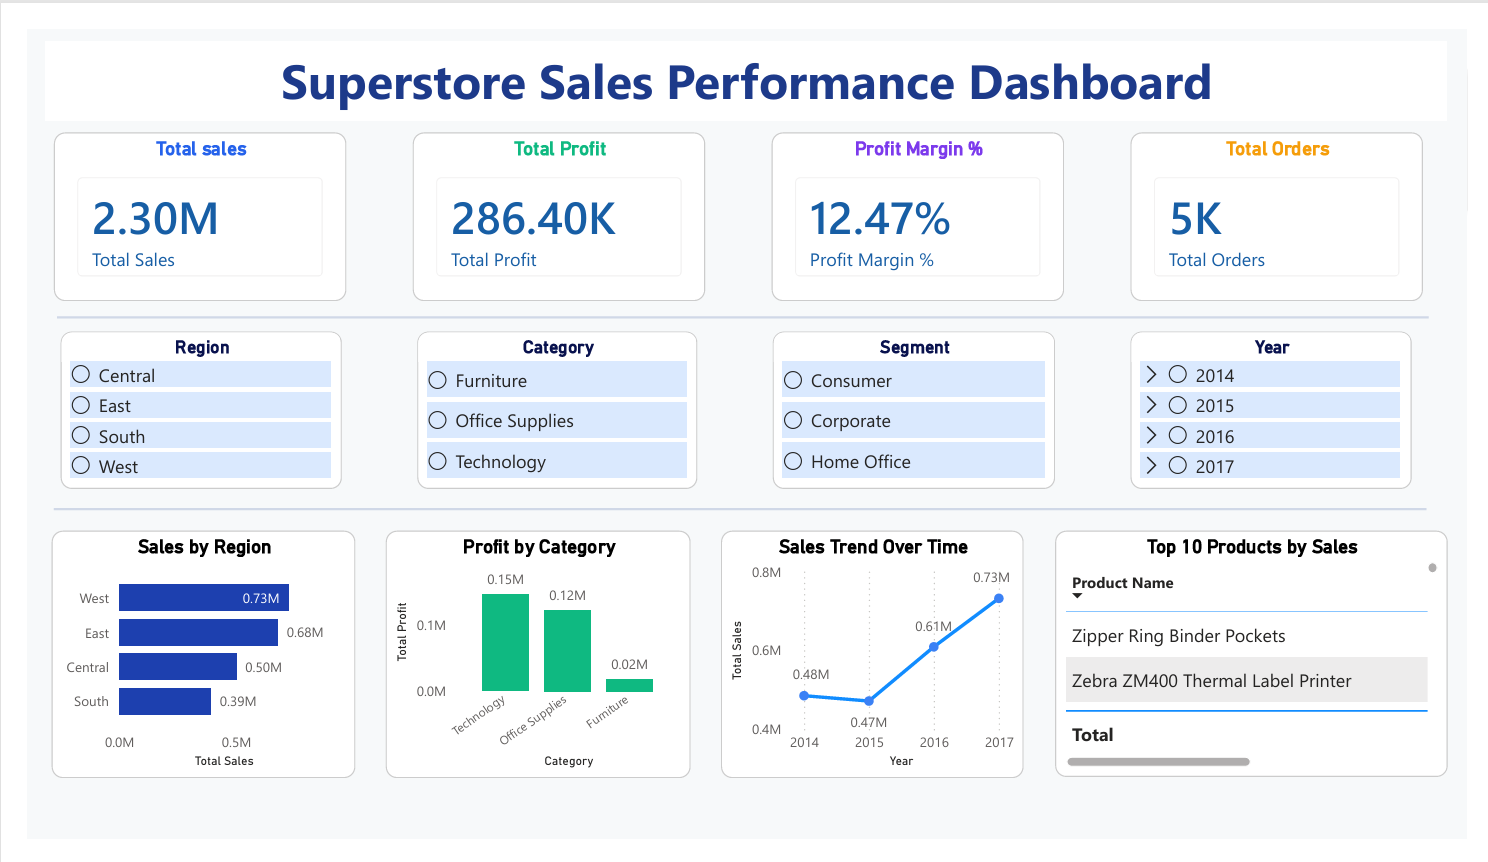

This screenshot's page, from the dashboard's own definition file:
{"tool":"powerbi","page":{"name":"Page 1","canvas":[1280,720],"ordinal":0},"visuals":[{"type":"cardVisual","title":"Total sales","fields":{"Data":["superstore_clean.Total Sales"]},"box":[23.3,90.6,260,150],"z":0},{"type":"cardVisual","title":"Total Profit","fields":{"Data":["superstore_clean.Total Profit"]},"box":[342.1,90.6,260,150],"z":1000},{"type":"cardVisual","title":"Profit Margin %","fields":{"Data":["superstore_clean.Profit Margin %"]},"box":[661,90.6,260,150],"z":2000},{"type":"cardVisual","title":"Total Orders","fields":{"Data":["superstore_clean.Total Orders"]},"box":[979.8,90.6,260,150],"z":3000},{"type":"listSlicer","fields":{"Values":["superstore_clean.Region"]},"box":[28.8,268.1,250,140],"z":4000},{"type":"listSlicer","fields":{"Values":["superstore_clean.Category"]},"box":[345.5,267.6,249.7,140],"z":5000},{"type":"listSlicer","fields":{"Values":["superstore_clean.Segment"]},"box":[662,267.6,251.1,140],"z":6000},{"type":"listSlicer","fields":{"Values":["superstore_clean.Order Date.Variation.Date Hierarchy.Year","superstore_clean.Order Date.Variation.Date Hierarchy.Quarter","superstore_clean.Order Date.Variation.Date Hierarchy.Month","superstore_clean.Order Date.Variation.Date Hierarchy.Day"]},"box":[979.8,267.6,249.7,140],"z":7000},{"type":"clusteredBarChart","title":"Sales by Region","fields":{"Category":["superstore_clean.Region"],"Y":["superstore_clean.Total Sales"]},"box":[20.6,444.6,270.3,220],"z":8000},{"type":"clusteredColumnChart","title":"Profit by Category","fields":{"Category":["superstore_clean.Category"],"Y":["superstore_clean.Total Profit"]},"box":[318.4,444.6,270.3,220],"z":9000},{"type":"tableEx","title":"Top 10 Products by Sales","fields":{"Values":["superstore_clean.Product Name","superstore_clean.Total Sales","superstore_clean.Total Profit","superstore_clean.Profit Margin %"]},"box":[912.5,444.6,349.9,219.6],"z":10000},{"type":"lineChart","title":"Sales Trend Over Time","fields":{"Category":["superstore_clean.Order Date.Variation.Date Hierarchy.Year","superstore_clean.Order Date.Variation.Date Hierarchy.Quarter","superstore_clean.Order Date.Variation.Date Hierarchy.Month","superstore_clean.Order Date.Variation.Date Hierarchy.Day"],"Y":["superstore_clean.Total Sales"]},"box":[616.1,444.6,269,220],"z":11000},{"type":"textbox","box":[16.5,9.6,1246,71.4],"z":12000},{"type":"shape","box":[23.3,419.9,1219.9,12.3],"z":13000},{"type":"shape","box":[20.6,216.8,1229.5,76.8],"z":14000}]}

Visuals, with their boxes in screenshot pixels (x1, y1, x2, y2), scaled from the page's 1280x720 canvas onto the 1488x862 screenshot:
"Total sales" cardVisual: l=27, t=108, r=329, b=288
"Total Profit" cardVisual: l=398, t=108, r=700, b=288
"Profit Margin %" cardVisual: l=768, t=108, r=1071, b=288
"Total Orders" cardVisual: l=1139, t=108, r=1441, b=288
listSlicer - superstore_clean.Region: l=33, t=321, r=324, b=489
listSlicer - superstore_clean.Category: l=402, t=320, r=692, b=488
listSlicer - superstore_clean.Segment: l=770, t=320, r=1061, b=488
listSlicer - superstore_clean.Order Date.Variation.Date Hierarchy.Year x superstore_clean.Order Date.Variation.Date Hierarchy.Quarter: l=1139, t=320, r=1429, b=488
"Sales by Region" clusteredBarChart: l=24, t=532, r=338, b=796
"Profit by Category" clusteredColumnChart: l=370, t=532, r=684, b=796
"Top 10 Products by Sales" tableEx: l=1061, t=532, r=1468, b=795
"Sales Trend Over Time" lineChart: l=716, t=532, r=1029, b=796
textbox: l=19, t=11, r=1468, b=97
shape: l=27, t=503, r=1445, b=517
shape: l=24, t=260, r=1453, b=352
